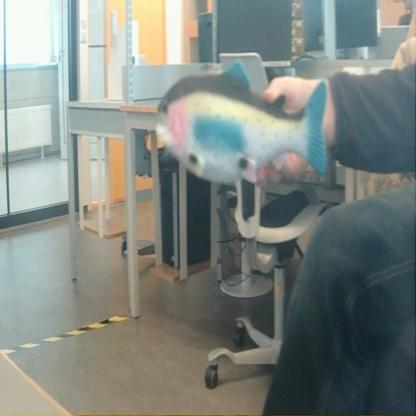rubberfish: (150, 55, 332, 184)
